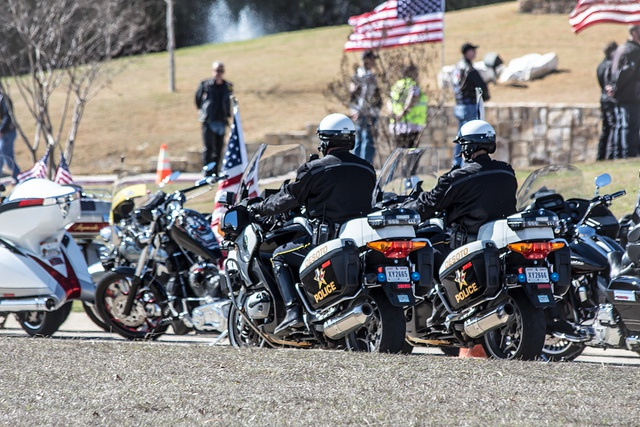non-vehicle: (371, 145, 572, 364), (220, 197, 433, 354), (97, 191, 227, 346), (541, 172, 640, 362), (0, 177, 96, 335), (518, 163, 634, 249)
